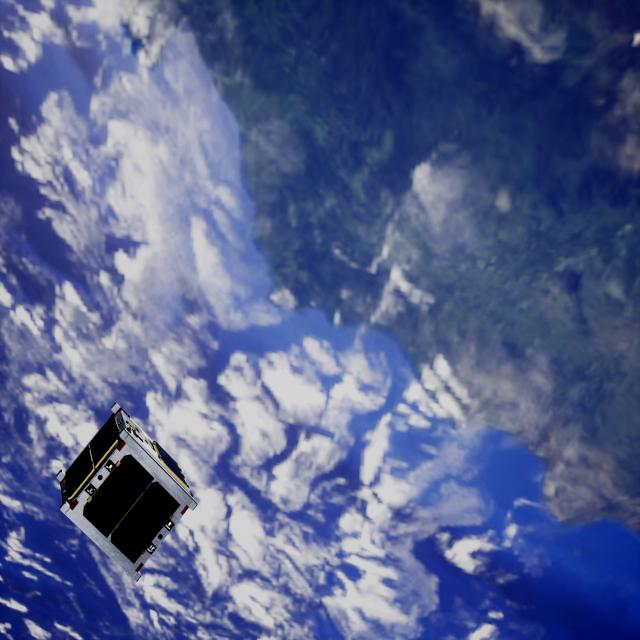medium_debris: (55, 402, 206, 584)
